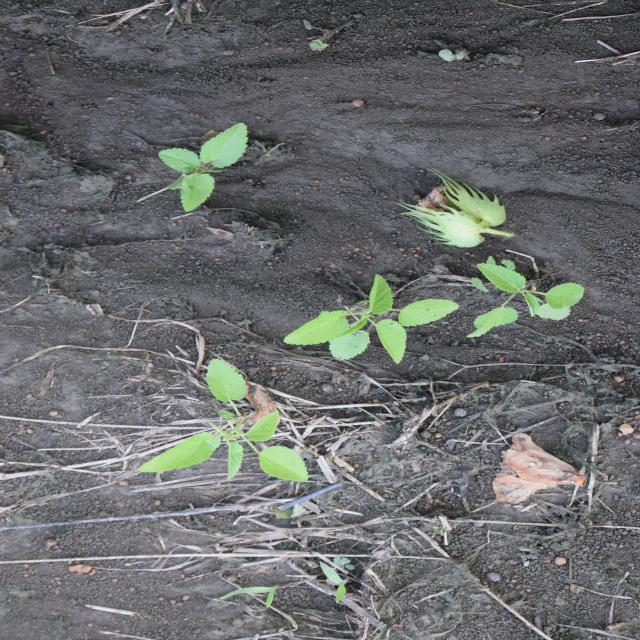PricklySida: (136, 356, 312, 484), (283, 272, 462, 366), (465, 256, 587, 339), (155, 122, 251, 213)
